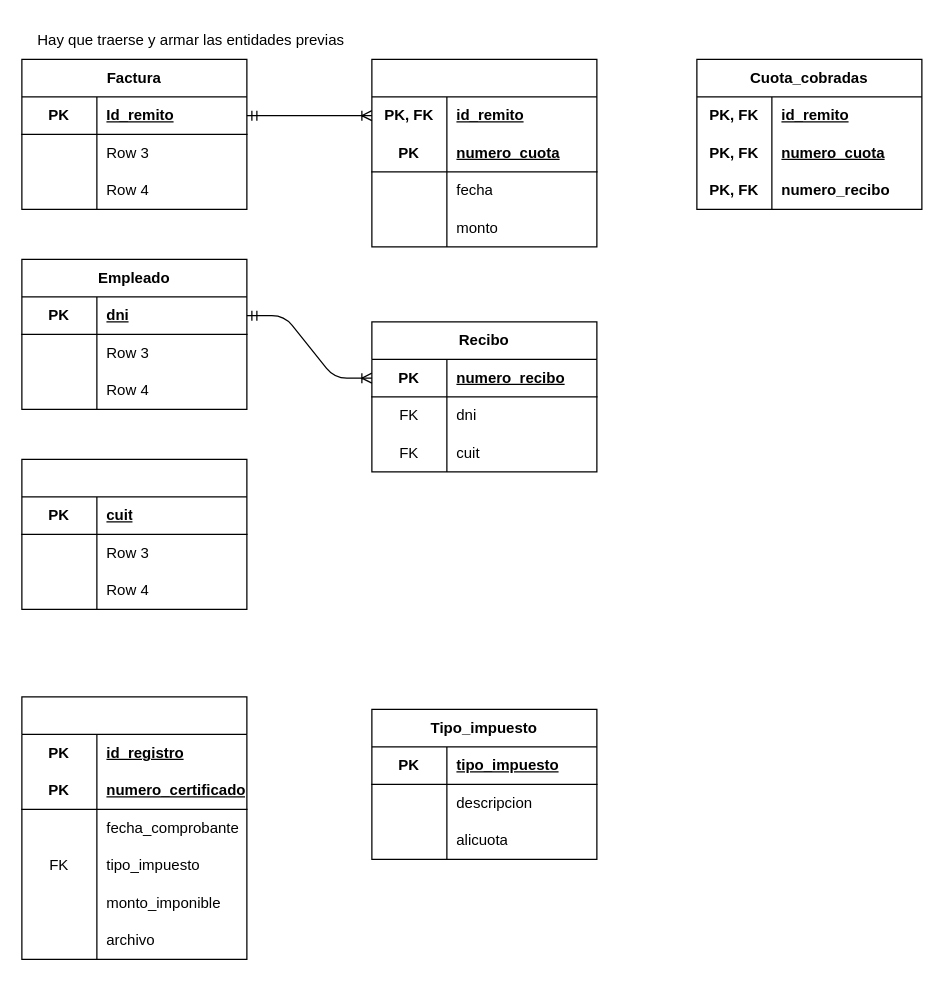
Some shapes in this 944 by 981 pixel diagram are drawn without their labels. Each missing label, with the box of its shape:
Distribuidores: (21, 458, 247, 609)
Fact_vencimiento: (371, 58, 597, 247)
Retencion: (21, 696, 247, 959)
